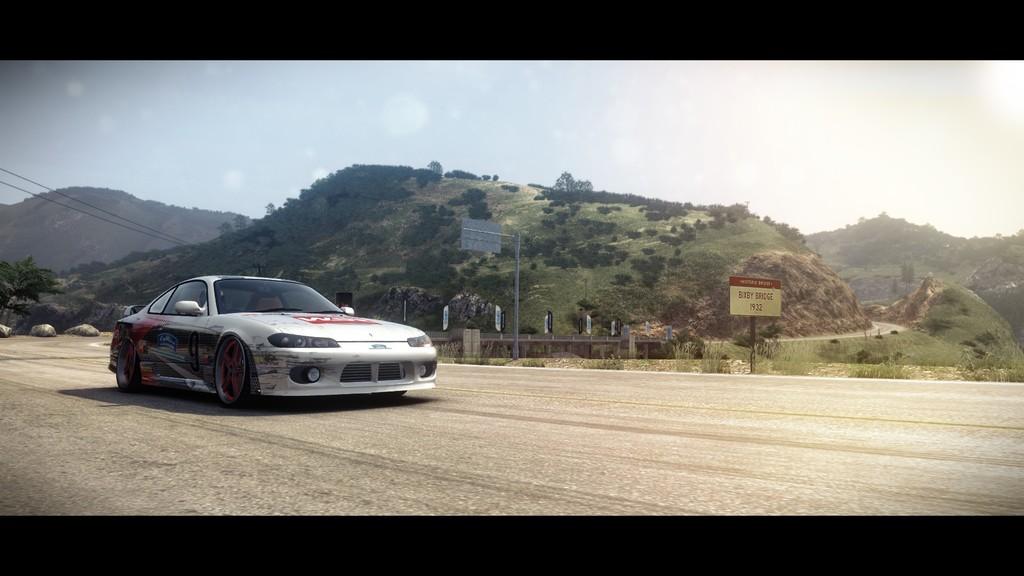Car: (106, 260, 438, 412)
